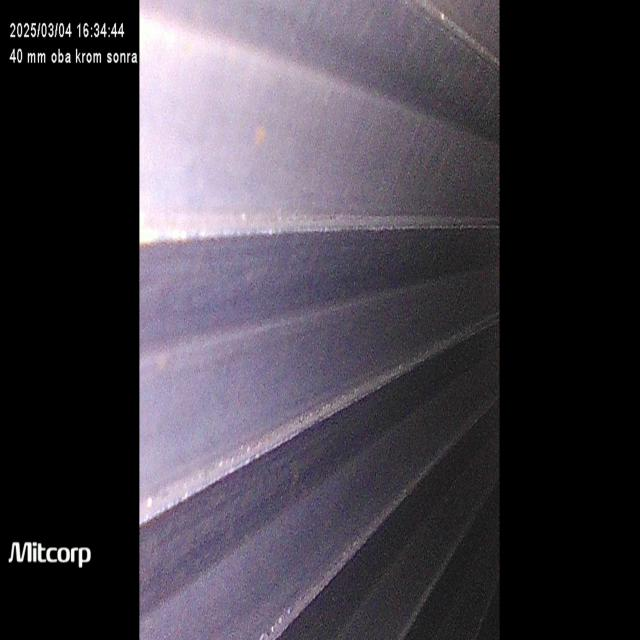hata_4.2: (275, 450, 321, 524), (223, 252, 279, 312), (142, 338, 186, 396), (245, 103, 280, 174), (144, 501, 168, 581)
